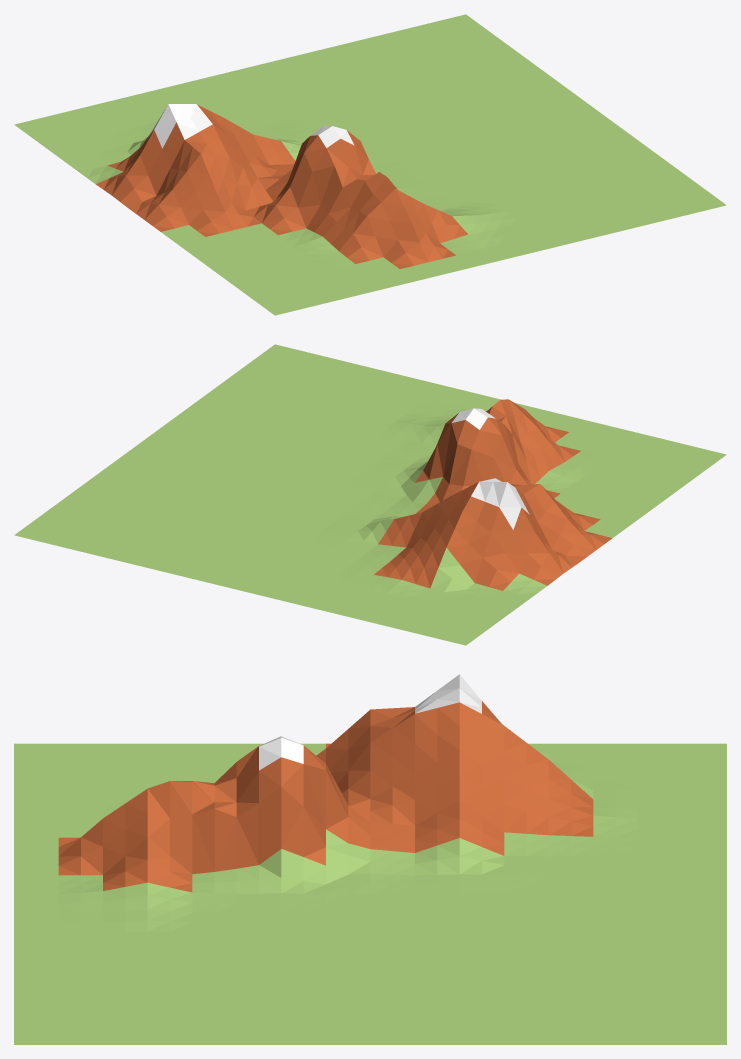
File: mountains.dae
3 renders of one model, top to bottom at view 1: azimuth 30°, elevation 25°; view 2: azimuth 150°, elevation 25°; view 3: azimuth 270°, elevation 25°, orthographic. The views are drawn at different scales.
Visible parts, largest first — view 1: Plane; view 2: Plane; view 3: Plane.
Boxes of the visible parts, x1,y1,x2,y2 form: Plane: (14, 14, 726, 315); Plane: (14, 344, 726, 645); Plane: (14, 674, 726, 1044).
Bounding box in the file's own units: 10.71 × 10.71 × 1.81.
